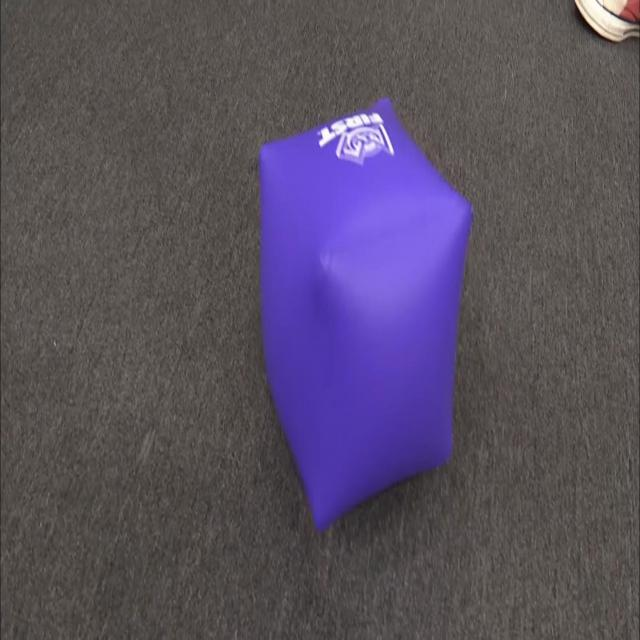frc_cube: (252, 80, 479, 531)
